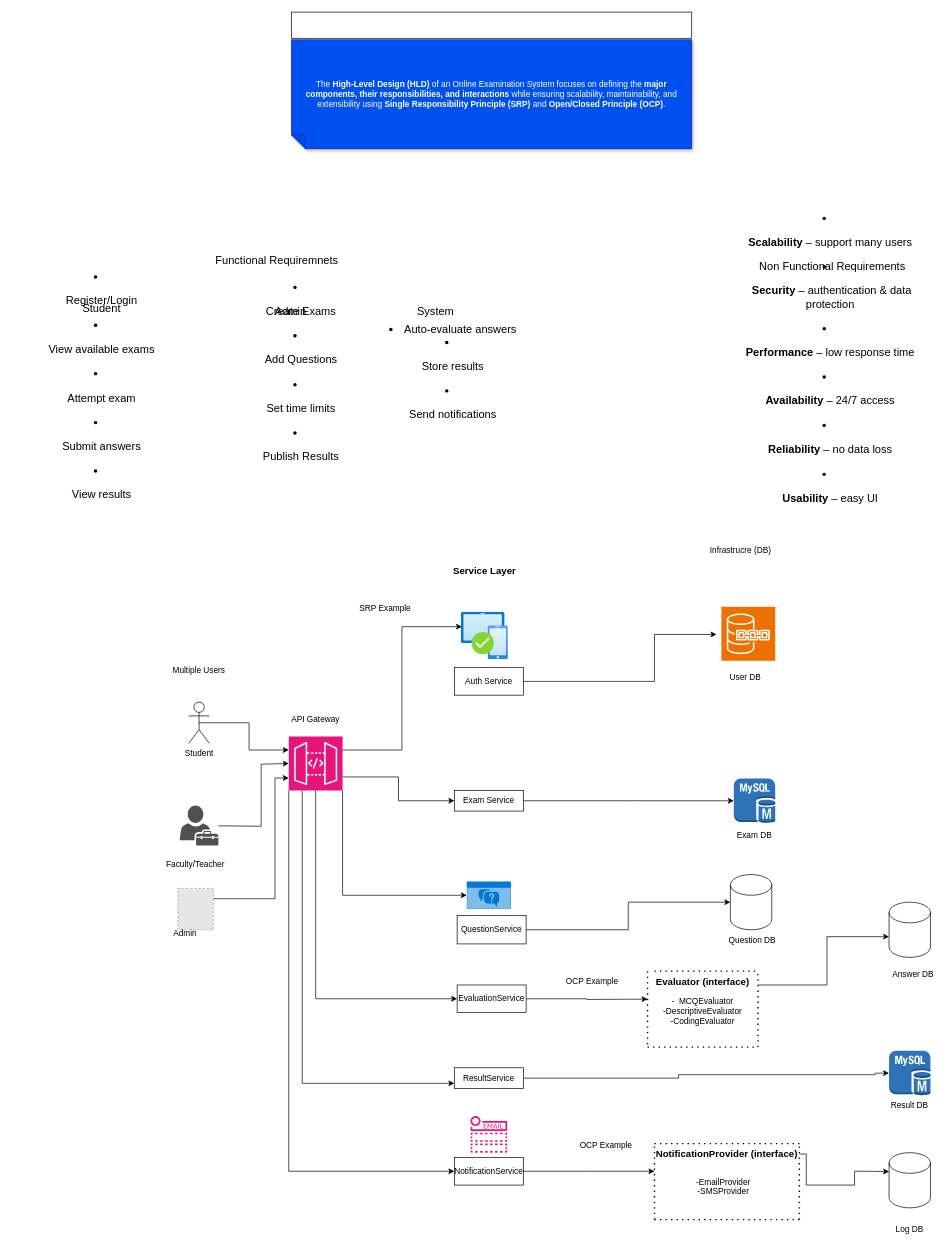
This 949x1252 diagram has some shape labels left out. Grey dashed boxes stand in for pictures. The centre of each missing label's shape, as x and y in pixels:
"FAQ" belongs at point (488, 895).
"Q3. Design an HLD for an Online Examination System applying SRP and OCP" belongs at point (491, 24).
